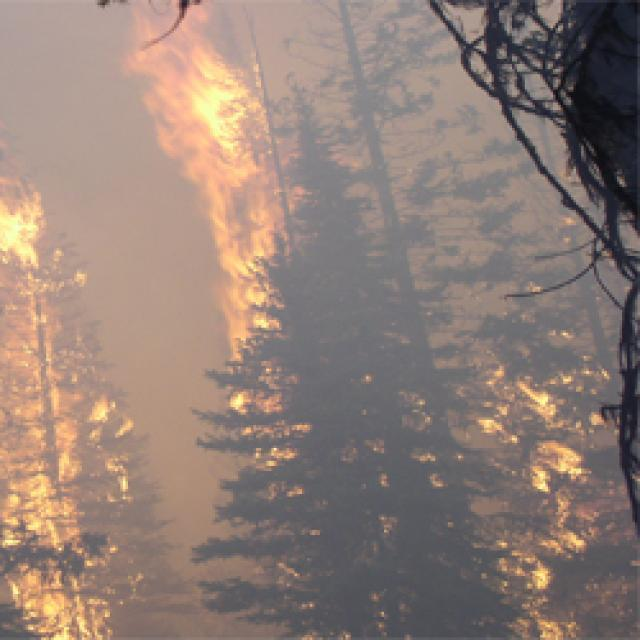Fire: (0, 169, 136, 640), (135, 0, 286, 358), (478, 370, 598, 640), (226, 384, 292, 464)
Smoke: (294, 0, 640, 362), (133, 170, 219, 640), (0, 0, 136, 167), (218, 463, 308, 638)
